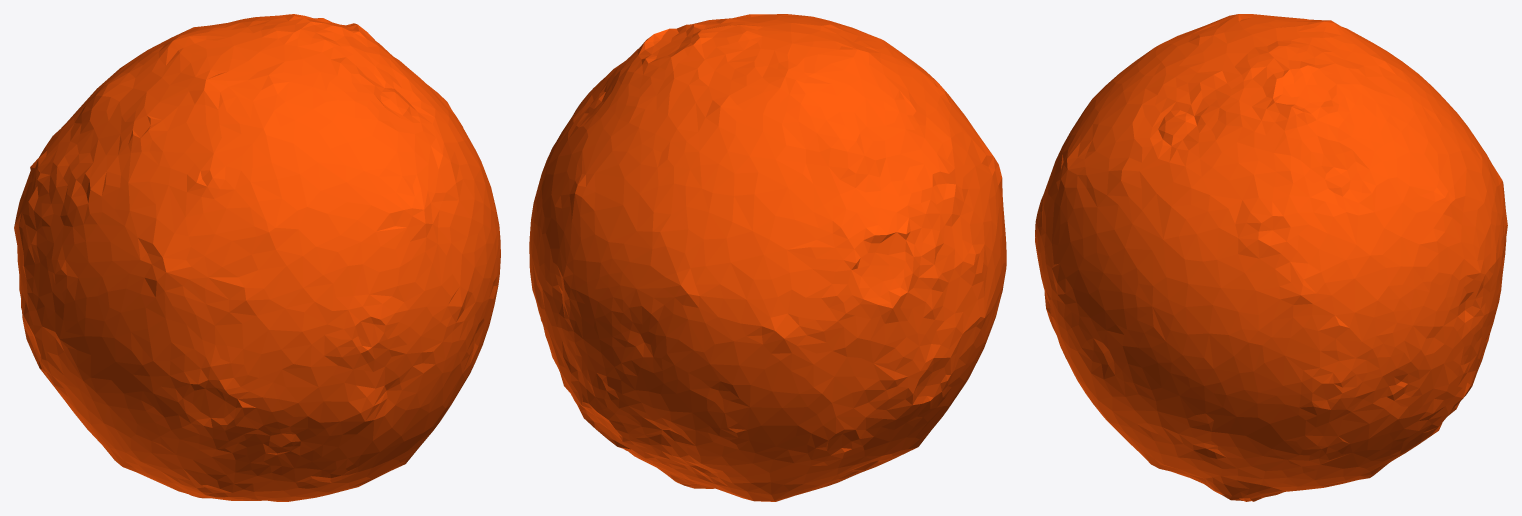
The model's file is modeloSol.obj.
3 renders of one model, left to right at view 1: azimuth 30°, elevation 25°; view 2: azimuth 150°, elevation 25°; view 3: azimuth 270°, elevation 25°, orthographic. The views are drawn at different scales.
Parts seen in each view (by area): view 1: luna_-_moon; view 2: luna_-_moon; view 3: luna_-_moon.
Boxes of the visible parts, <box> form: luna_-_moon: <box>14,14,500,501</box>; luna_-_moon: <box>529,14,1006,501</box>; luna_-_moon: <box>1035,14,1507,501</box>.
Size of the model in its own units: 1.25 by 1.25 by 1.25.
